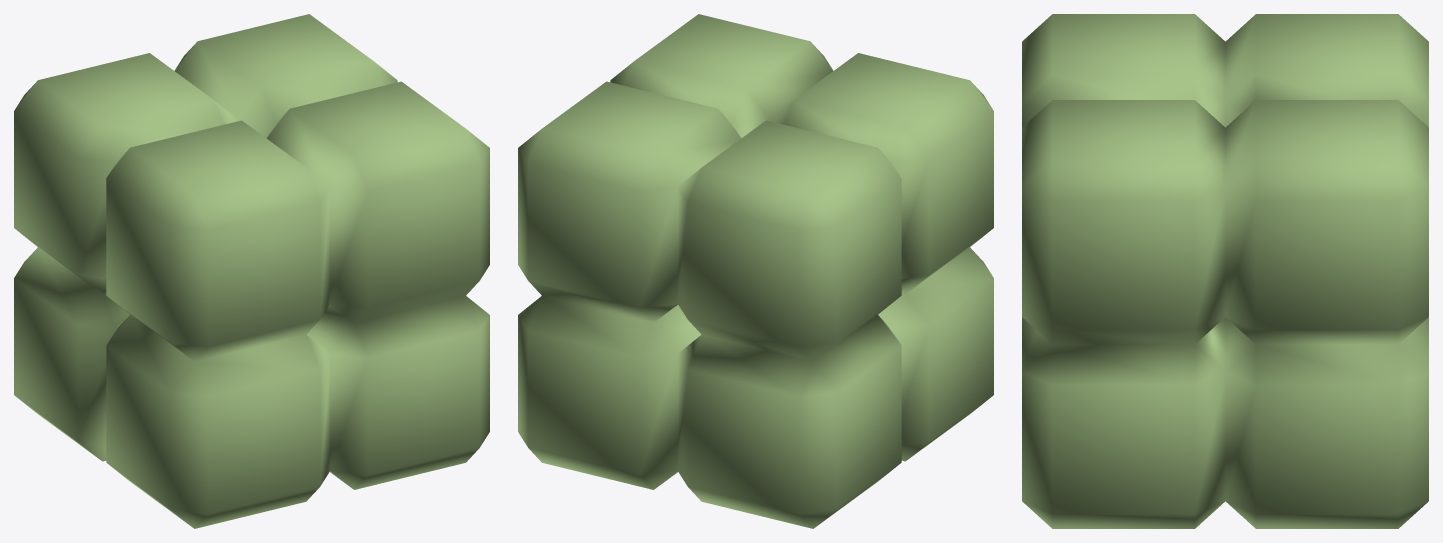
The model's file is BevelCubes.fbx.
3 views of the same model, side by side, from view 1: azimuth 30°, elevation 25°; view 2: azimuth 150°, elevation 25°; view 3: azimuth 270°, elevation 25° (orthographic). The views are drawn at different scales.
Parts seen in each view (by area): view 1: Cube.007; view 2: Cube.007; view 3: Cube.007.
Part boxes in pixels (x1=…): Cube.007: x1=14, y1=14, x2=489, y2=528; Cube.007: x1=518, y1=14, x2=993, y2=528; Cube.007: x1=1022, y1=14, x2=1428, y2=528.
Bounding box in the file's own units: 4 × 4 × 4.
